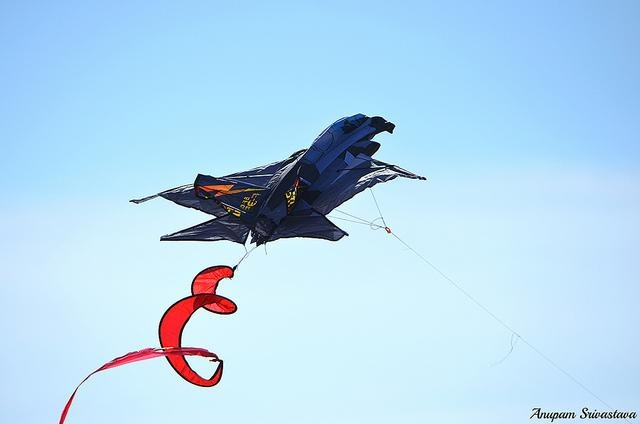airplane: (140, 106, 410, 269)
